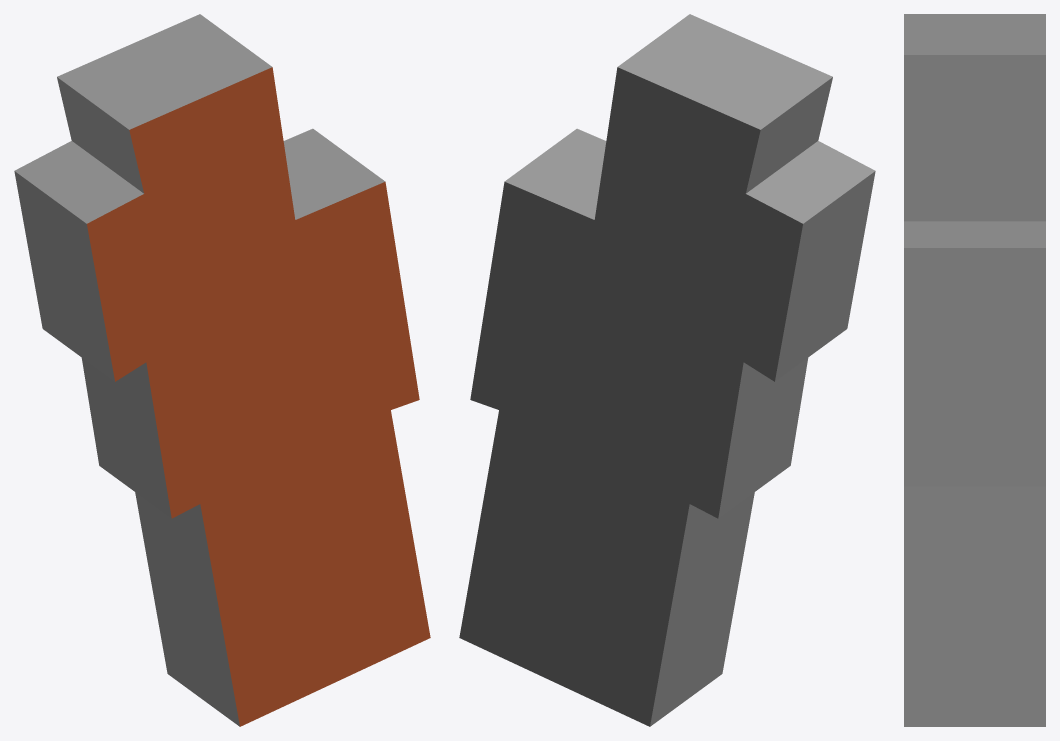
File: construction_3192_assumed_A_Casa_h6m.obj
3 views of the same model, side by side, from view 1: azimuth 30°, elevation 25°; view 2: azimuth 150°, elevation 25°; view 3: azimuth 270°, elevation 25° (orthographic). The views are drawn at different scales.
Visible parts, largest first — view 1: construction_3192_assumed_A_Casa; view 2: construction_3192_assumed_A_Casa; view 3: construction_3192_assumed_A_Casa.
Part boxes in pixels (x1,y1,x2,y2): construction_3192_assumed_A_Casa: (14, 14, 430, 726); construction_3192_assumed_A_Casa: (459, 14, 875, 726); construction_3192_assumed_A_Casa: (904, 14, 1045, 726).
Size of the model in its own units: 16.43 by 29.77 by 6.
